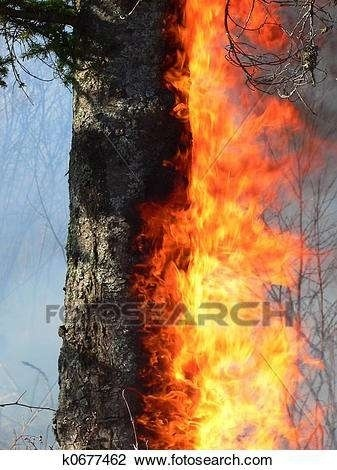fire: (129, 42, 334, 460)
